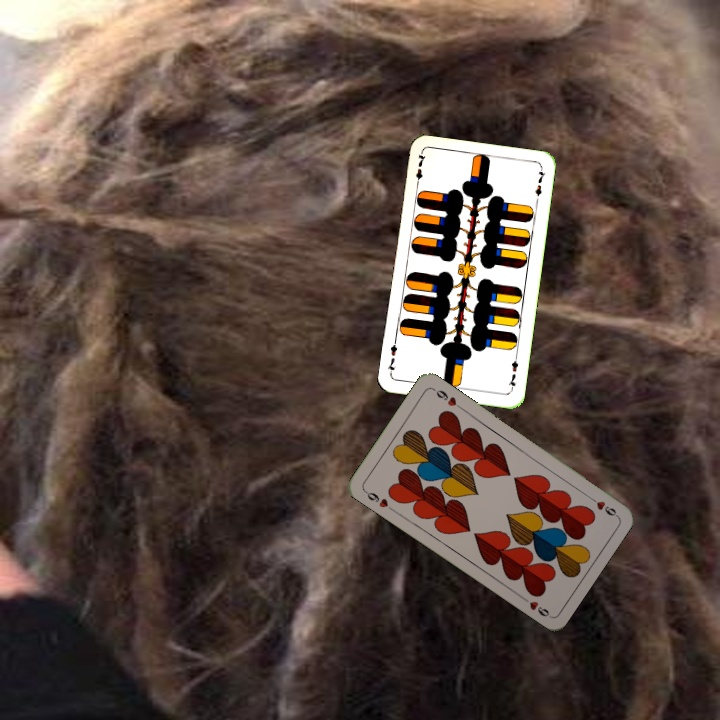E7: (504, 352, 521, 393), (412, 149, 428, 190)
H9: (584, 491, 620, 519), (360, 486, 396, 513)
